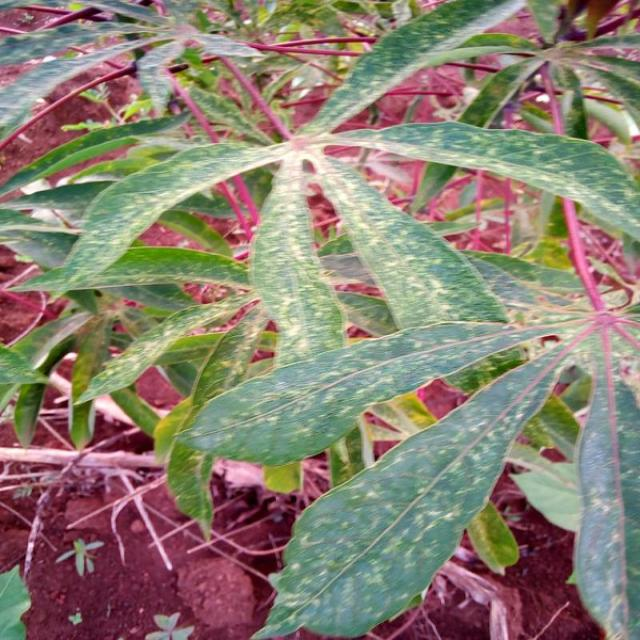cassava leaf: (1, 0, 638, 638), (250, 339, 570, 638)
